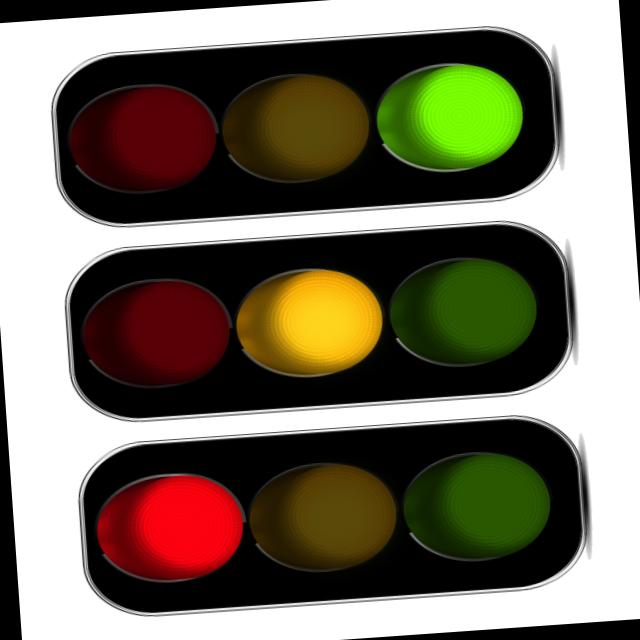green-lights: (372, 66, 536, 186)
red-lights: (97, 478, 239, 576)
yellow-lights: (228, 263, 374, 377)
